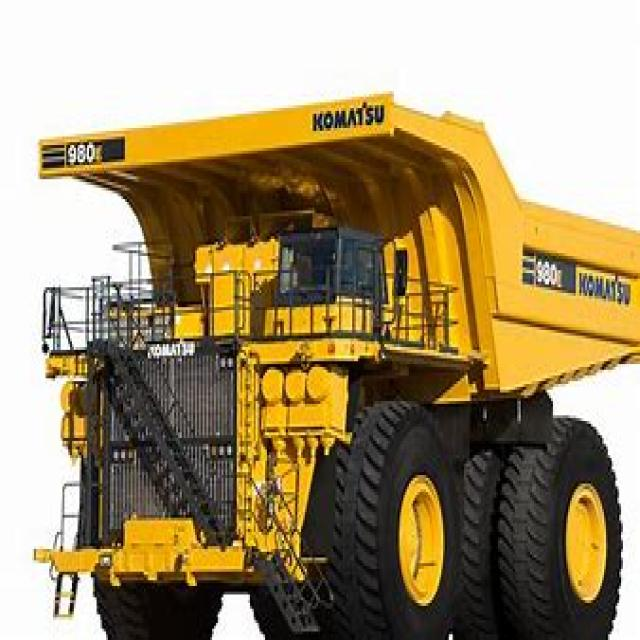dump_truck: (38, 100, 638, 637)
